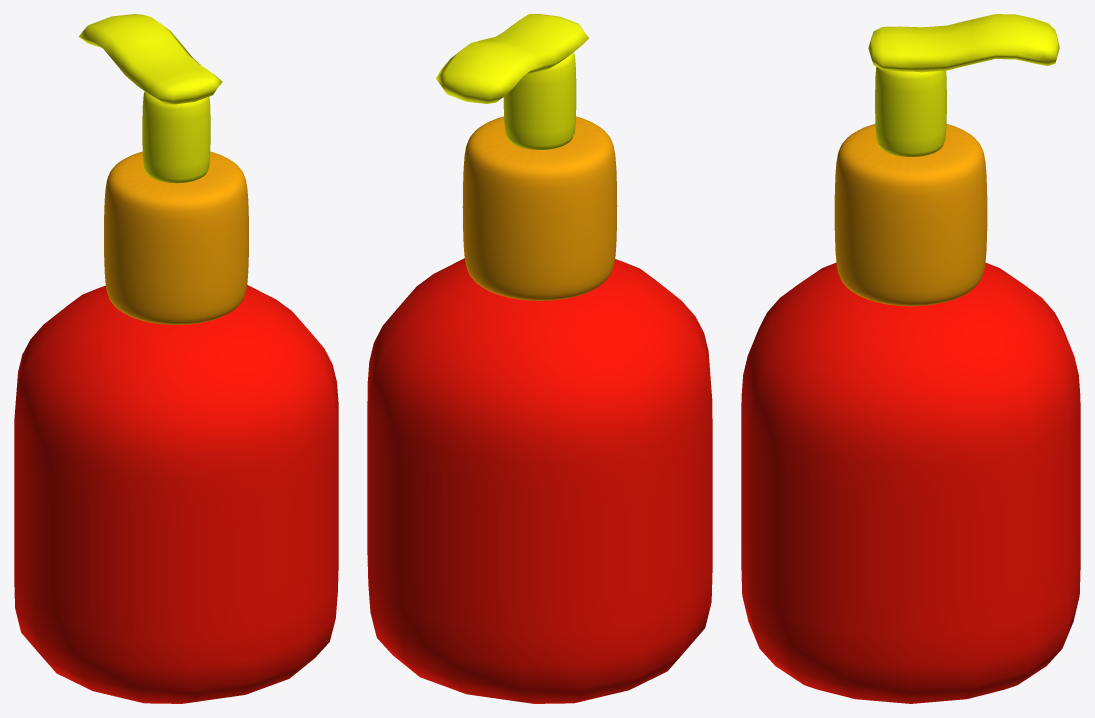
Rendered from Savon_2.fbx.
3 renders of one model, left to right at view 1: azimuth 30°, elevation 25°; view 2: azimuth 150°, elevation 25°; view 3: azimuth 270°, elevation 25°, orthographic. The views are drawn at different scales.
Parts seen in each view (by area): view 1: Cube.016, Cube.017; view 2: Cube.016, Cube.017; view 3: Cube.016, Cube.017.
Part boxes in pixels (x1,y1,x2,y2): Cube.016: [14, 151, 338, 703]; Cube.017: [78, 14, 222, 183]; Cube.016: [367, 116, 712, 703]; Cube.017: [436, 14, 588, 149]; Cube.016: [741, 124, 1080, 703]; Cube.017: [868, 14, 1059, 156].
Size of the model in its own units: 27.35 by 57.32 by 27.35.
